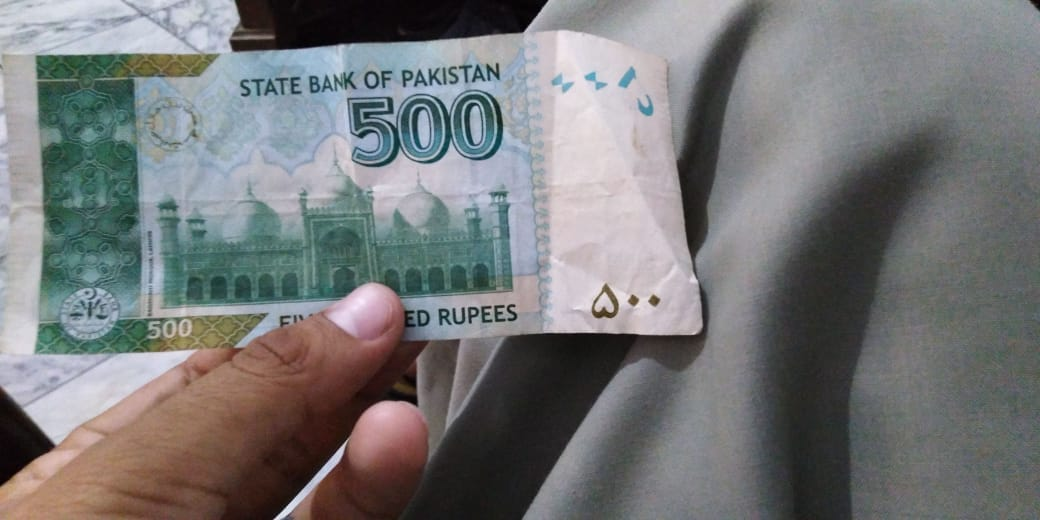500 rupee: (6, 42, 719, 337)
